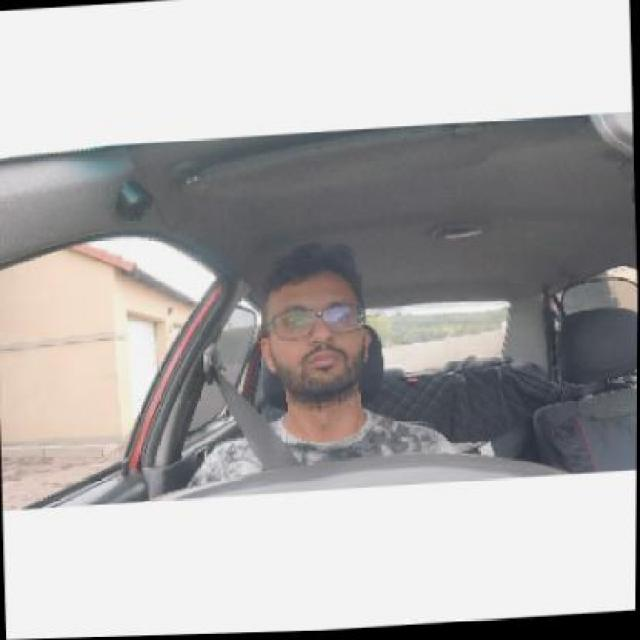person: (258, 248, 380, 404)
